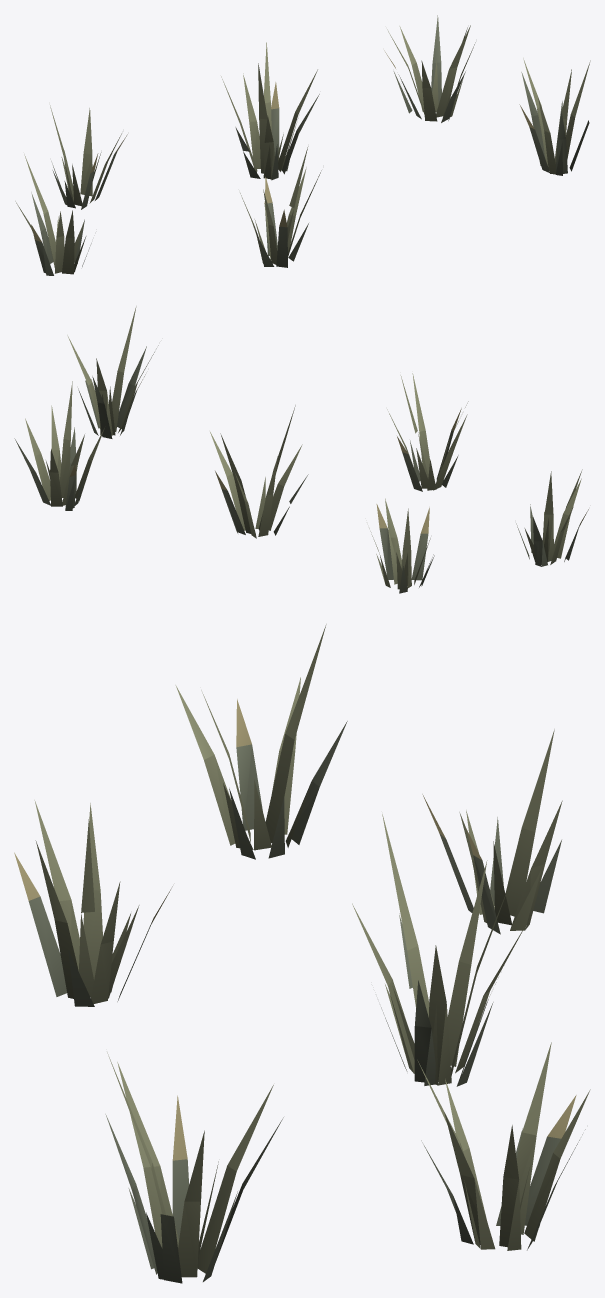
The model's file is reeds.lod.glb.
3 views of the same model, one above another, from view 1: azimuth 30°, elevation 25°; view 2: azimuth 150°, elevation 25°; view 3: azimuth 270°, elevation 25° (orthographic). The views are drawn at different scales.
Parts seen in each view (by area): view 1: reeds; view 2: reeds; view 3: reeds.
Boxes of the visible parts, x1,y1,x2,y2 form: reeds: (15, 15, 590, 275); reeds: (14, 306, 588, 593); reeds: (14, 624, 590, 1283).
Bounding box in the file's own units: 4.27 × 0.9519 × 2.09.
